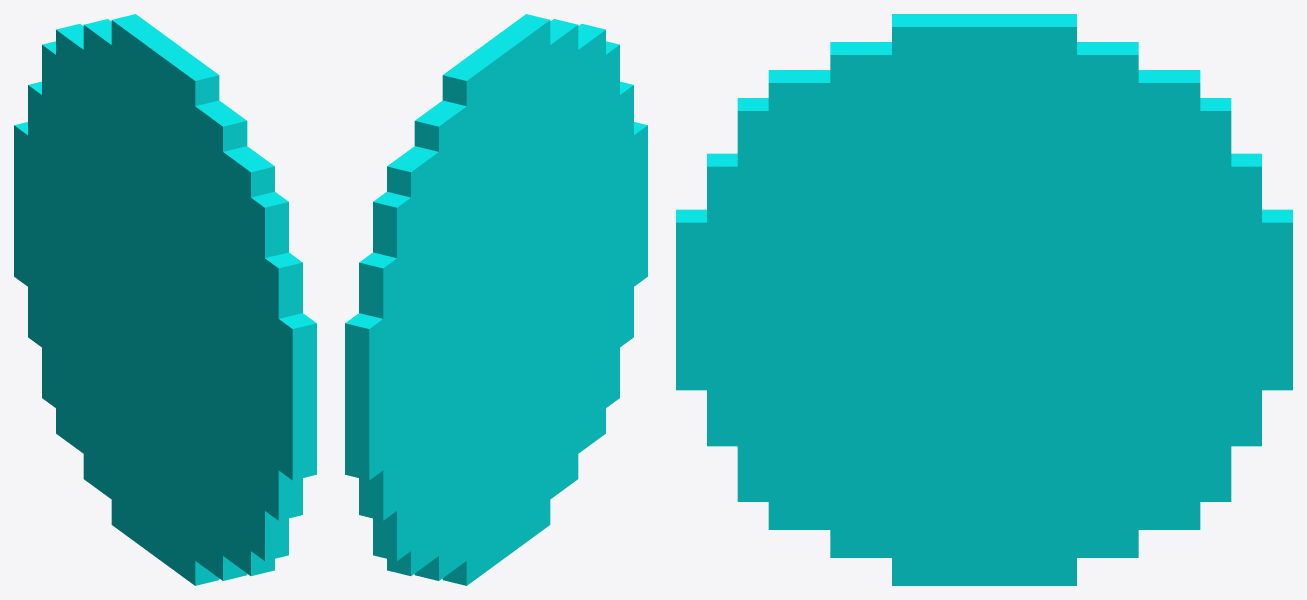
File: Mine4-1_ORIG.obj
3 renders of one model, left to right at view 1: azimuth 30°, elevation 25°; view 2: azimuth 150°, elevation 25°; view 3: azimuth 270°, elevation 25°, orthographic. The views are drawn at different scales.
Size of the model in its own units: 0.1 by 2 by 2.
